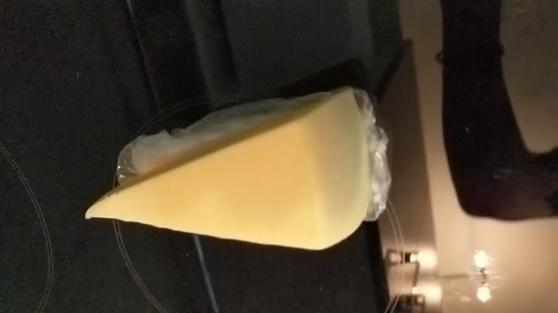cheese: (87, 84, 371, 252)
